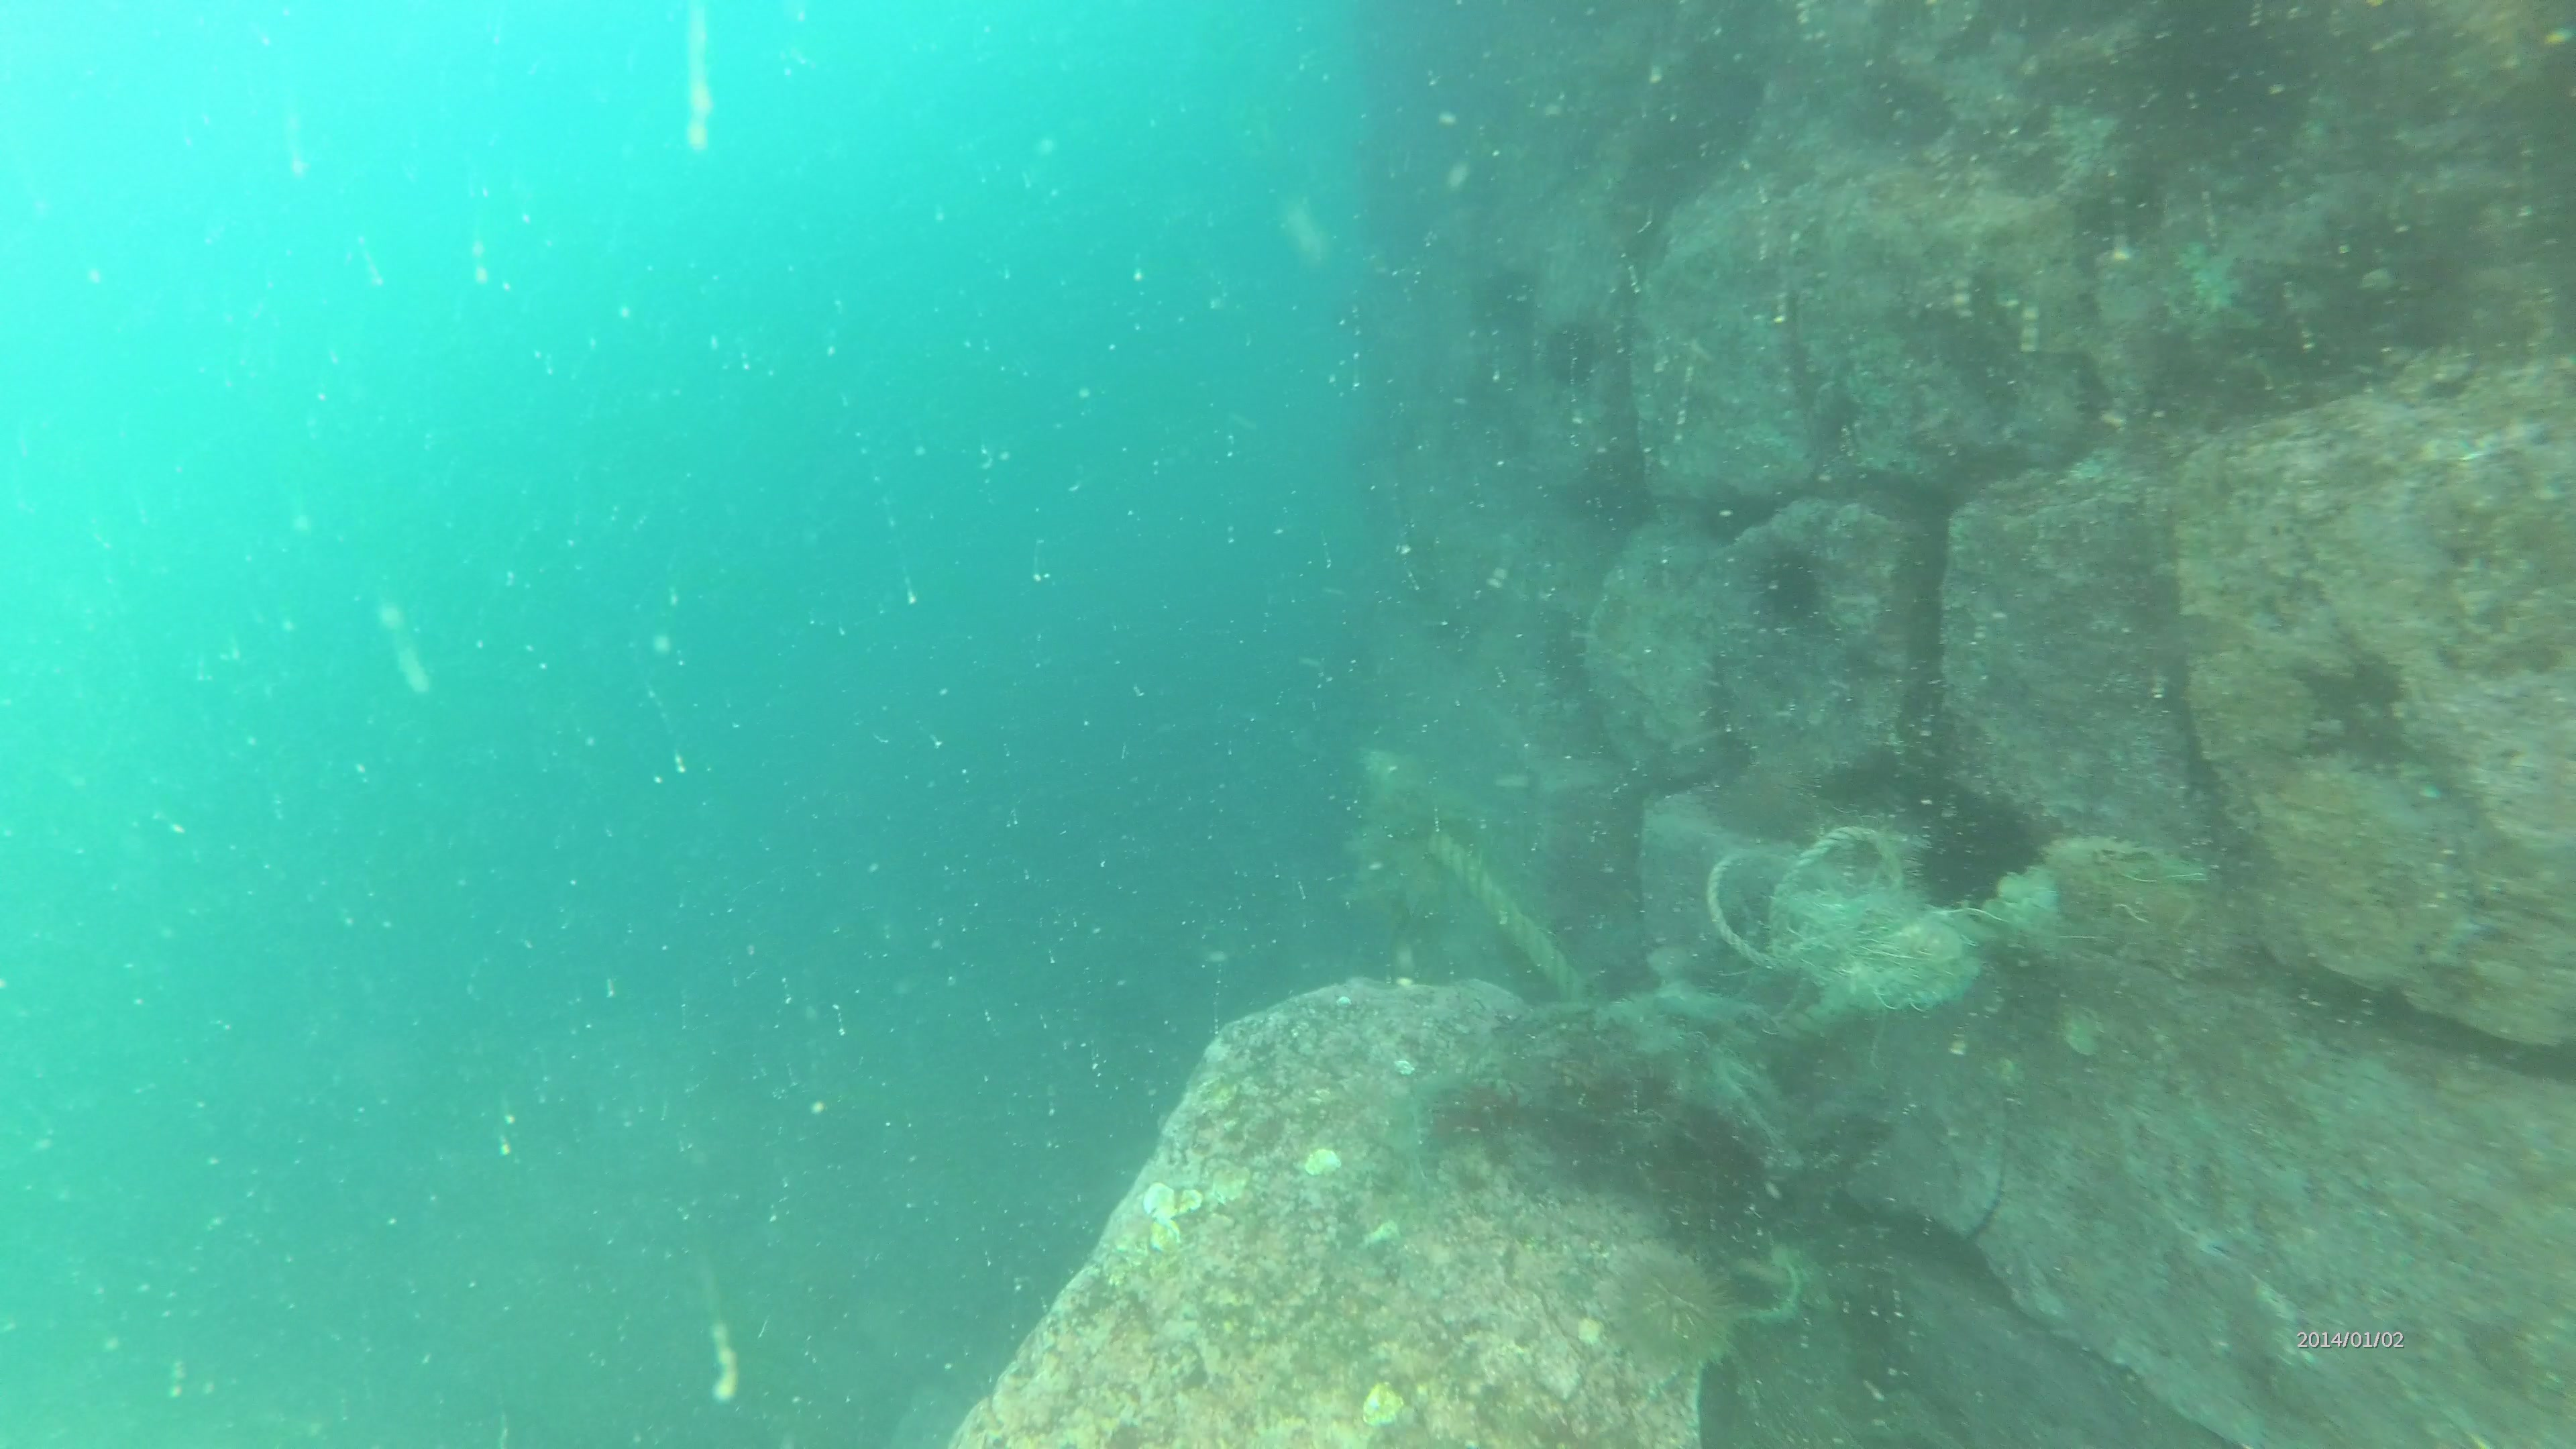echinus: (1621, 1240, 1730, 1368), (1909, 800, 2038, 906), (1736, 550, 1833, 625), (1536, 322, 1608, 386)
